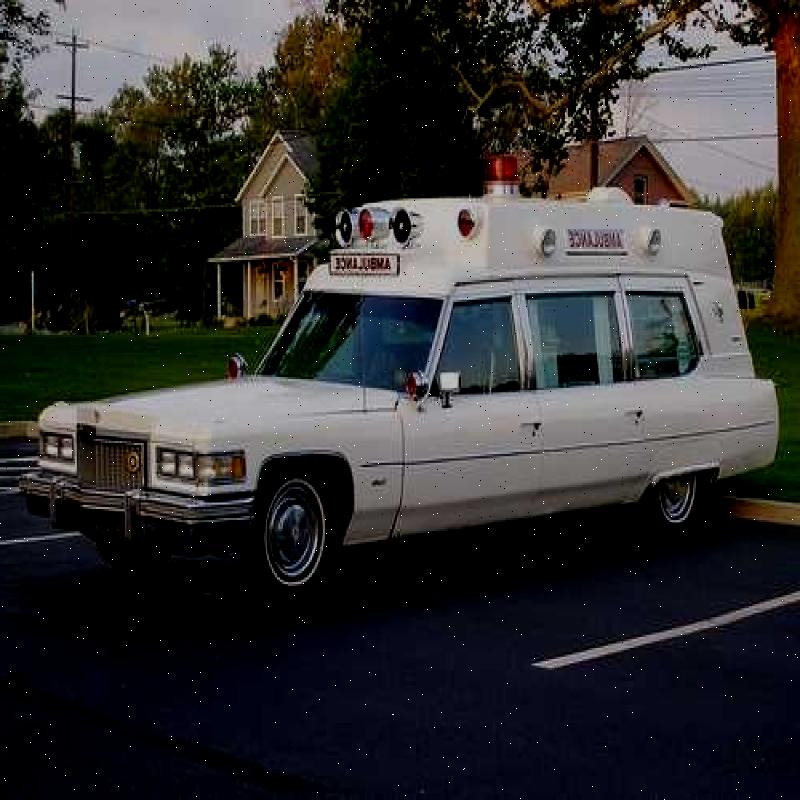AmbulanceSiren: (474, 143, 530, 201)
